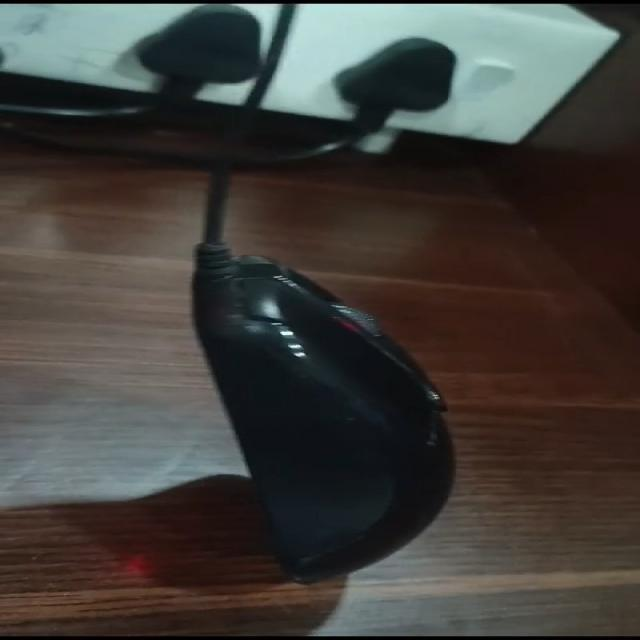Mouse: (160, 210, 524, 582)
